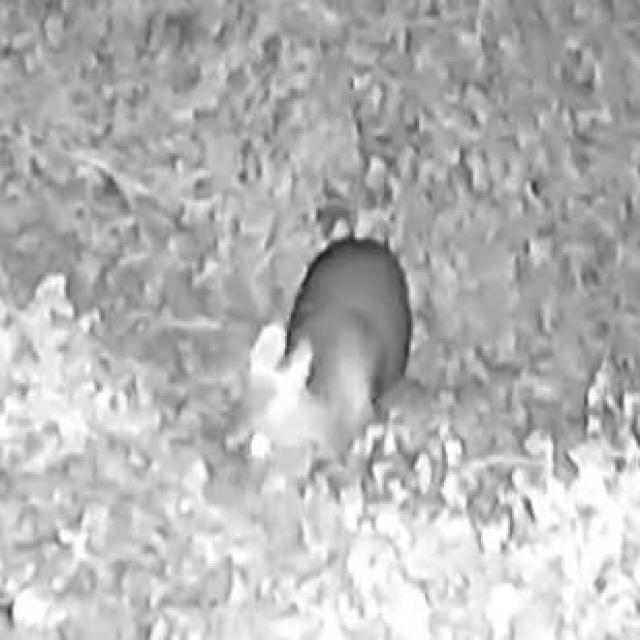elk: (208, 195, 439, 518)
